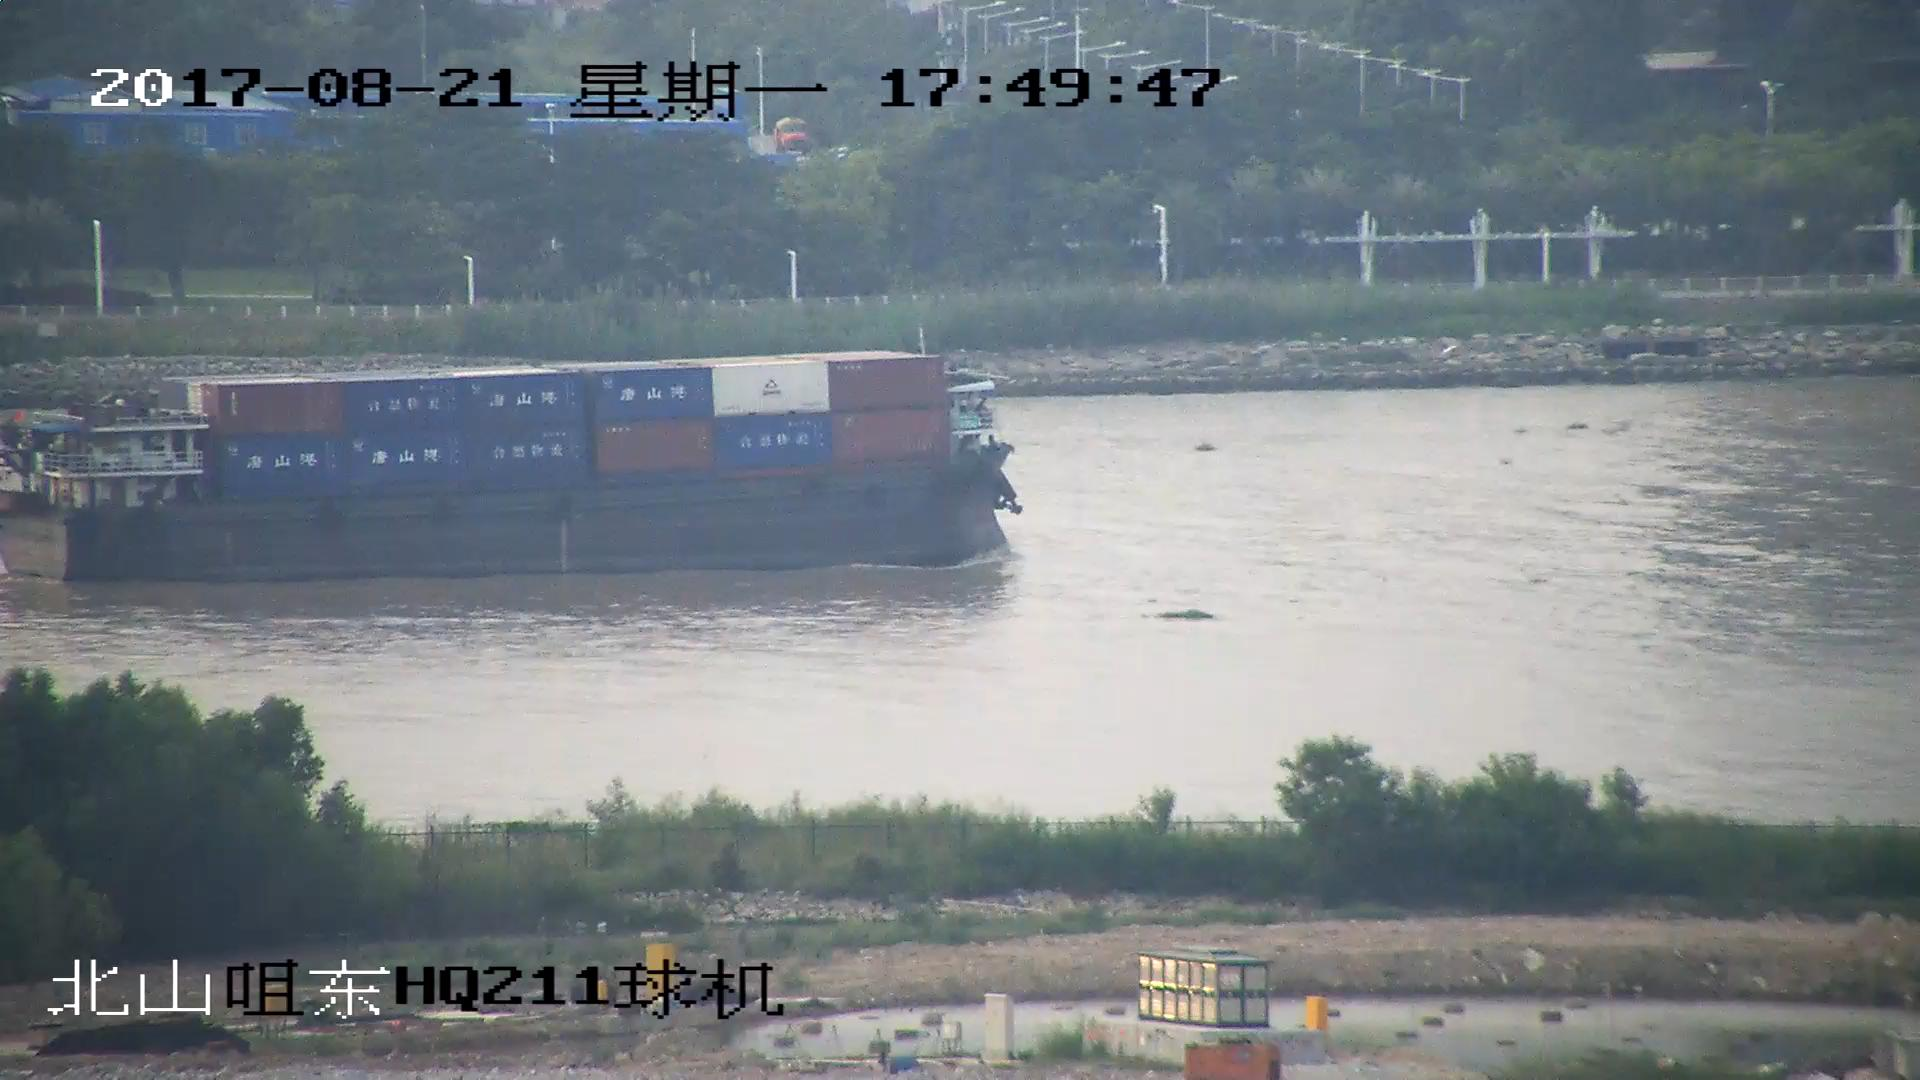container ship: (1, 352, 1021, 571)
